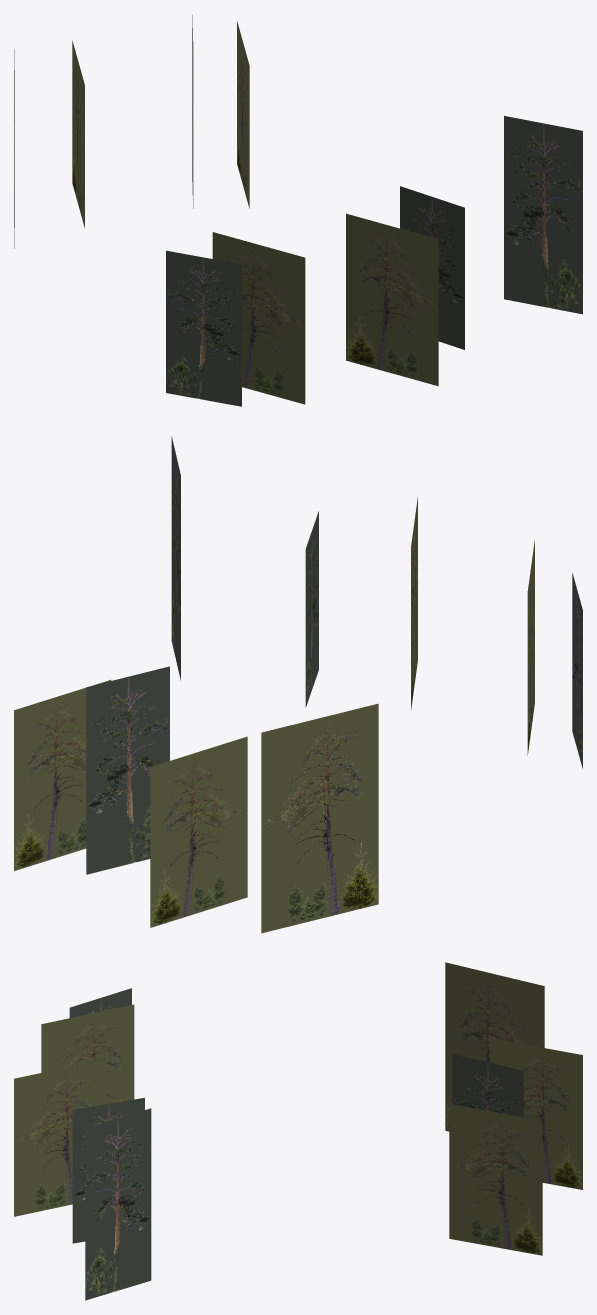
File: sosni.FBX
3 views of the same model, one above another, from view 1: azimuth 30°, elevation 25°; view 2: azimuth 150°, elevation 25°; view 3: azimuth 270°, elevation 25° (orthographic). The views are drawn at different scales.
Parts seen in each view (by area): view 1: sosny; view 2: sosny; view 3: sosny.
Part boxes in pixels (<box>): sosny: <box>14,15,582,406</box>; sosny: <box>14,436,582,933</box>; sosny: <box>14,962,582,1300</box>.
Bounding box in the file's own units: 4834 × 2197 × 6465.
